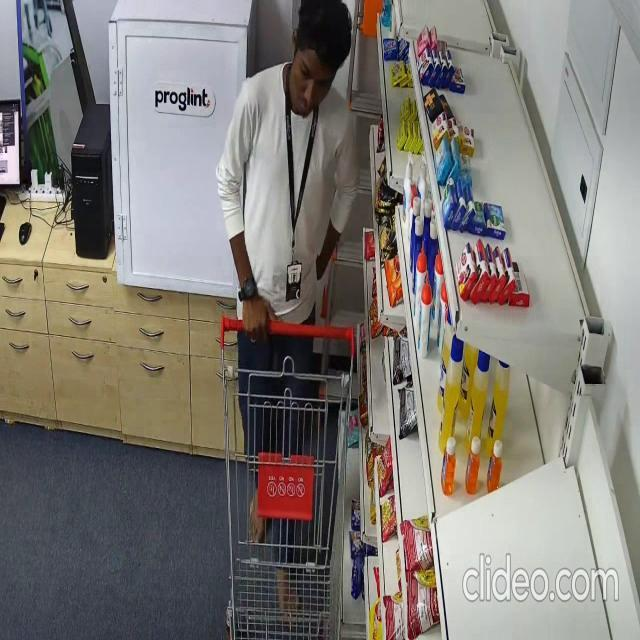Shoplifting: (215, 0, 360, 626)
